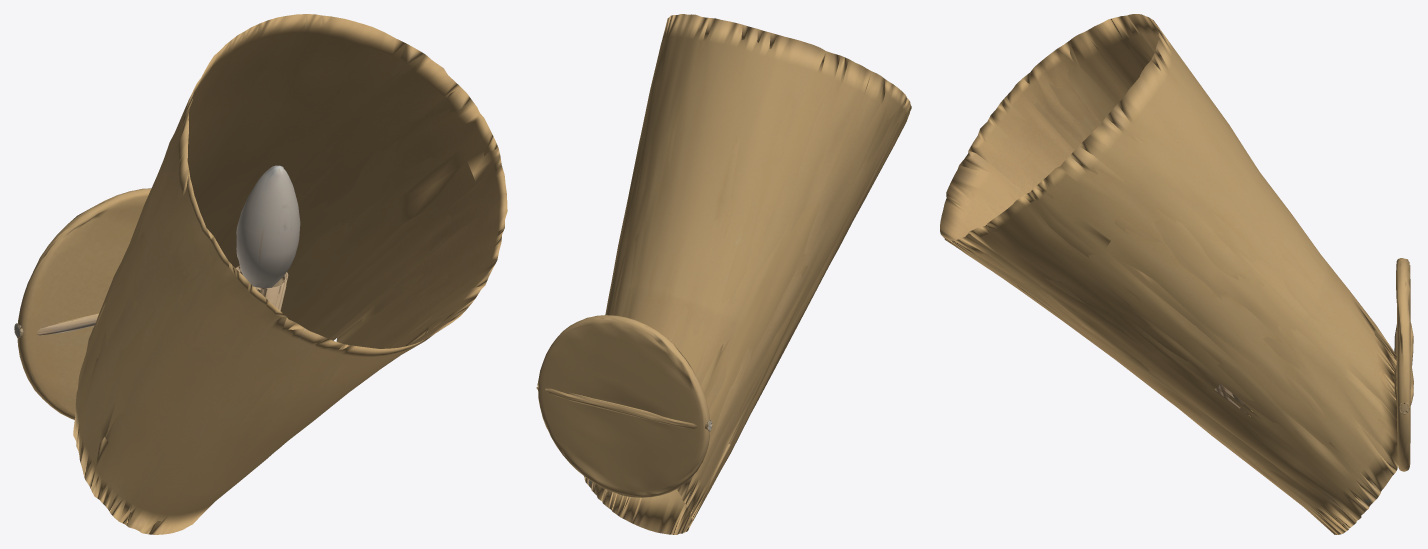
File: Meshy_AI_Golden_Glow_Wall_Scon_1020124432_texture.glb
The picture shows the model from 3 angles, left to right: view 1: azimuth 30°, elevation 25°; view 2: azimuth 150°, elevation 25°; view 3: azimuth 270°, elevation 25°; orthographic projection. The views are drawn at different scales.
Size of the model in its own units: 0.4956 by 0.9492 by 0.8228.
Materials: 1 (1 with a texture image).
